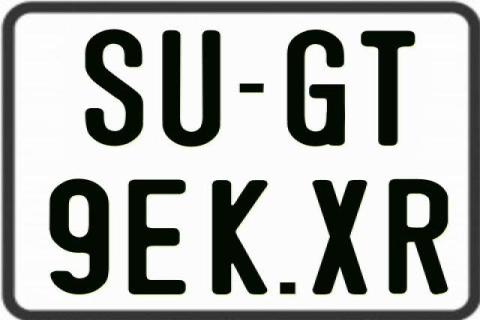0: (49, 176, 113, 295)
E: (128, 178, 190, 296)
G: (285, 28, 344, 149)
K: (210, 178, 270, 294)
R: (388, 179, 452, 299)
S: (84, 27, 146, 147)
T: (360, 28, 415, 144)
U: (162, 29, 220, 150)
X: (310, 179, 368, 293)
